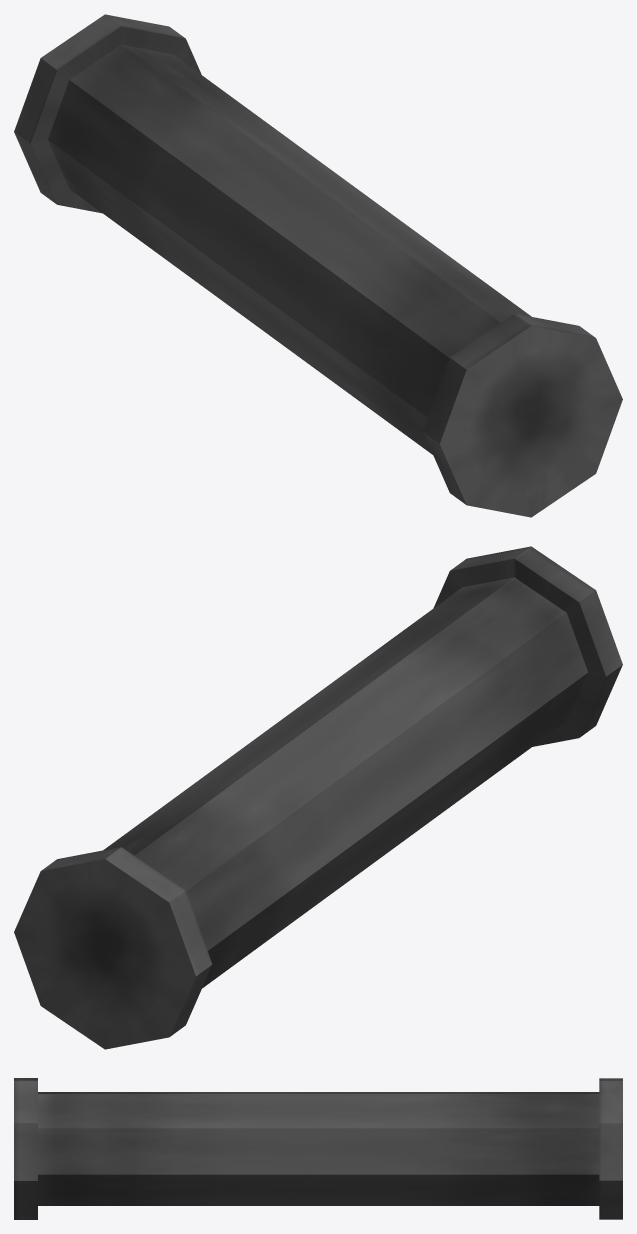
The model's file is pipe_double.fbx.
3 renders of one model, top to bottom at view 1: azimuth 30°, elevation 25°; view 2: azimuth 150°, elevation 25°; view 3: azimuth 270°, elevation 25°, orthographic. The views are drawn at different scales.
Parts seen in each view (by area): view 1: pipe_double; view 2: pipe_double; view 3: pipe_double.
Boxes of the visible parts, x1,y1,x2,y2 form: pipe_double: (14, 14, 622, 517); pipe_double: (14, 546, 622, 1049); pipe_double: (14, 1078, 622, 1219).
Bounding box in the file's own units: 0.124 × 0.124 × 0.5.
1 material, 1 textured.
